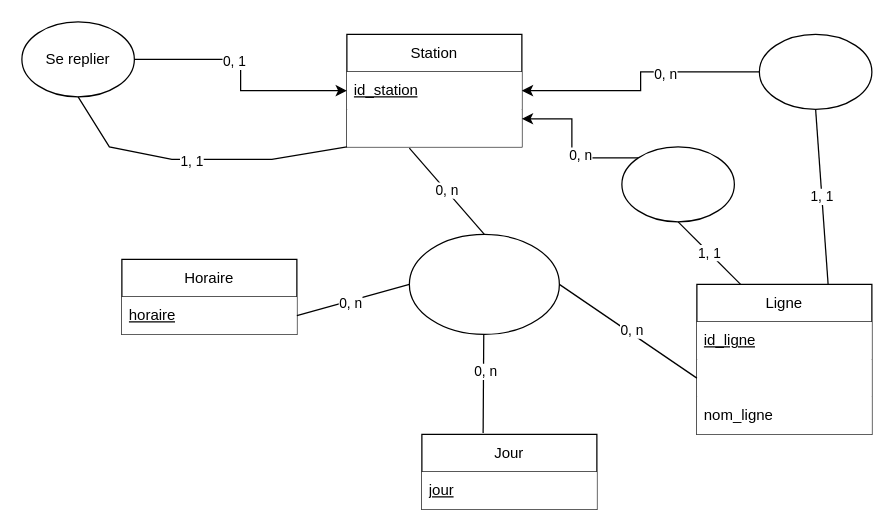
Image size: 894x531. Some labels were removed from this diagram. Each missing label, with the centre of its shape:
"Deservir" goes at point (483, 283).
"Débuter" goes at point (815, 71).
"Finir" goes at point (677, 184).
"nom_station" goes at point (433, 127).
"numero_ligne" goes at point (783, 377).
